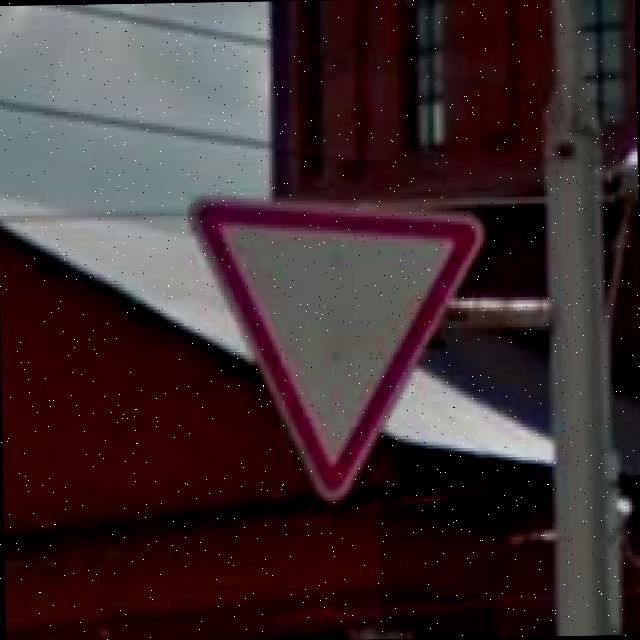Ustap pierwszenstwa: (180, 187, 496, 512)
